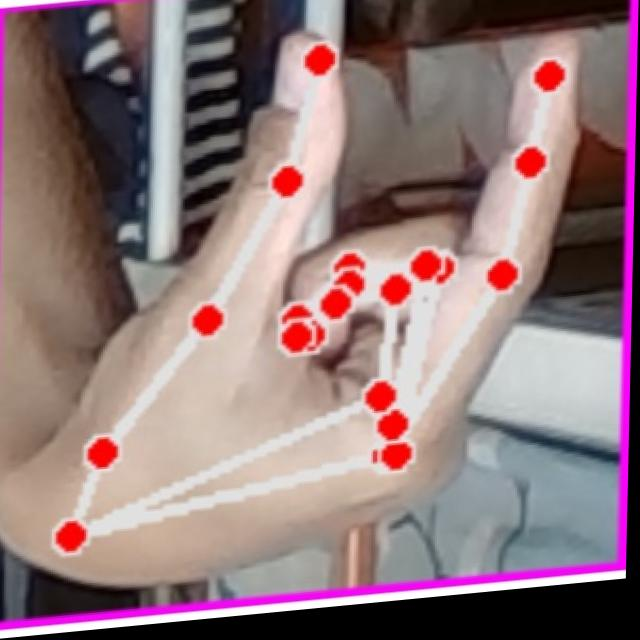Q: (24, 4, 608, 621)
